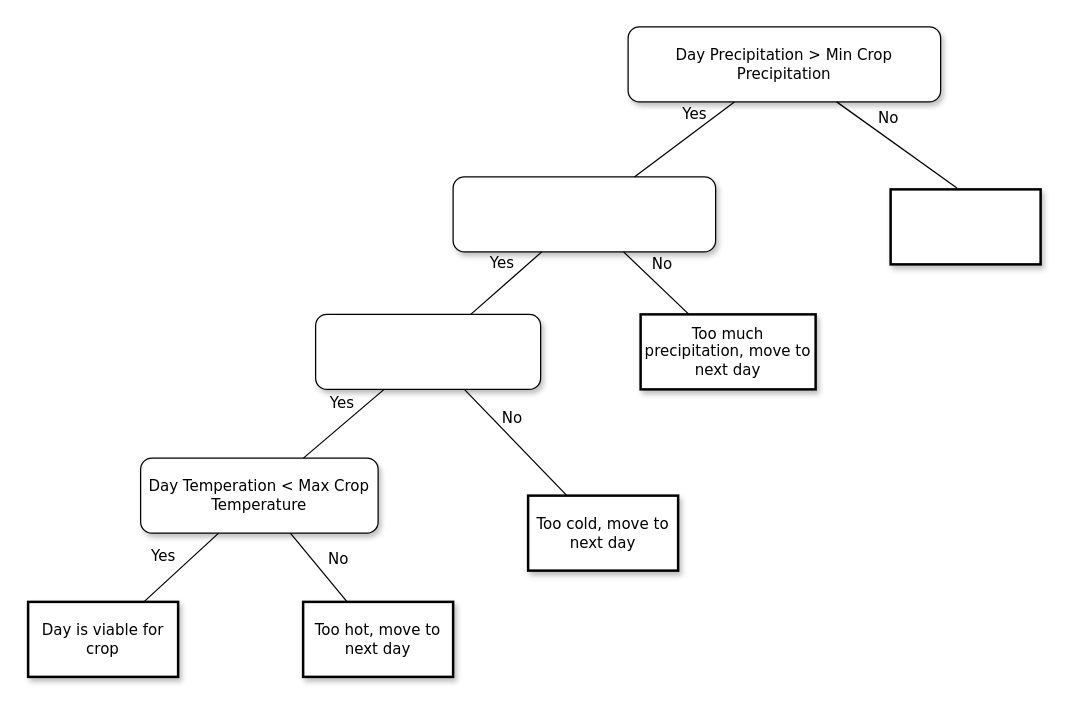
Some shapes in this 1070 by 709 pixel diagram are drawn without their labels. The centre of each missing label's shape, as x and y in pixels:
"Day Precipication < Max Crop Precipitation" goes at pixel 585 216.
"Day Temperature > Min Crop Temperature" goes at pixel 428 353.
"Poor levels of precipitation, move to next day" goes at pixel 966 228.
